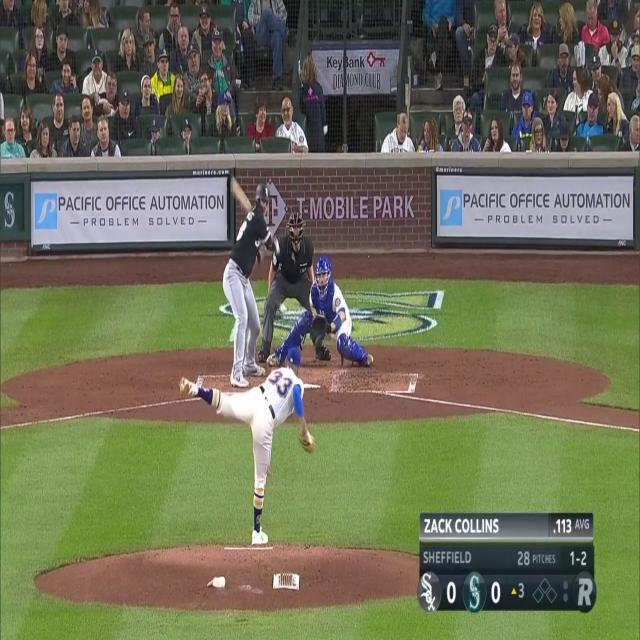baseball: (279, 302, 287, 316)
